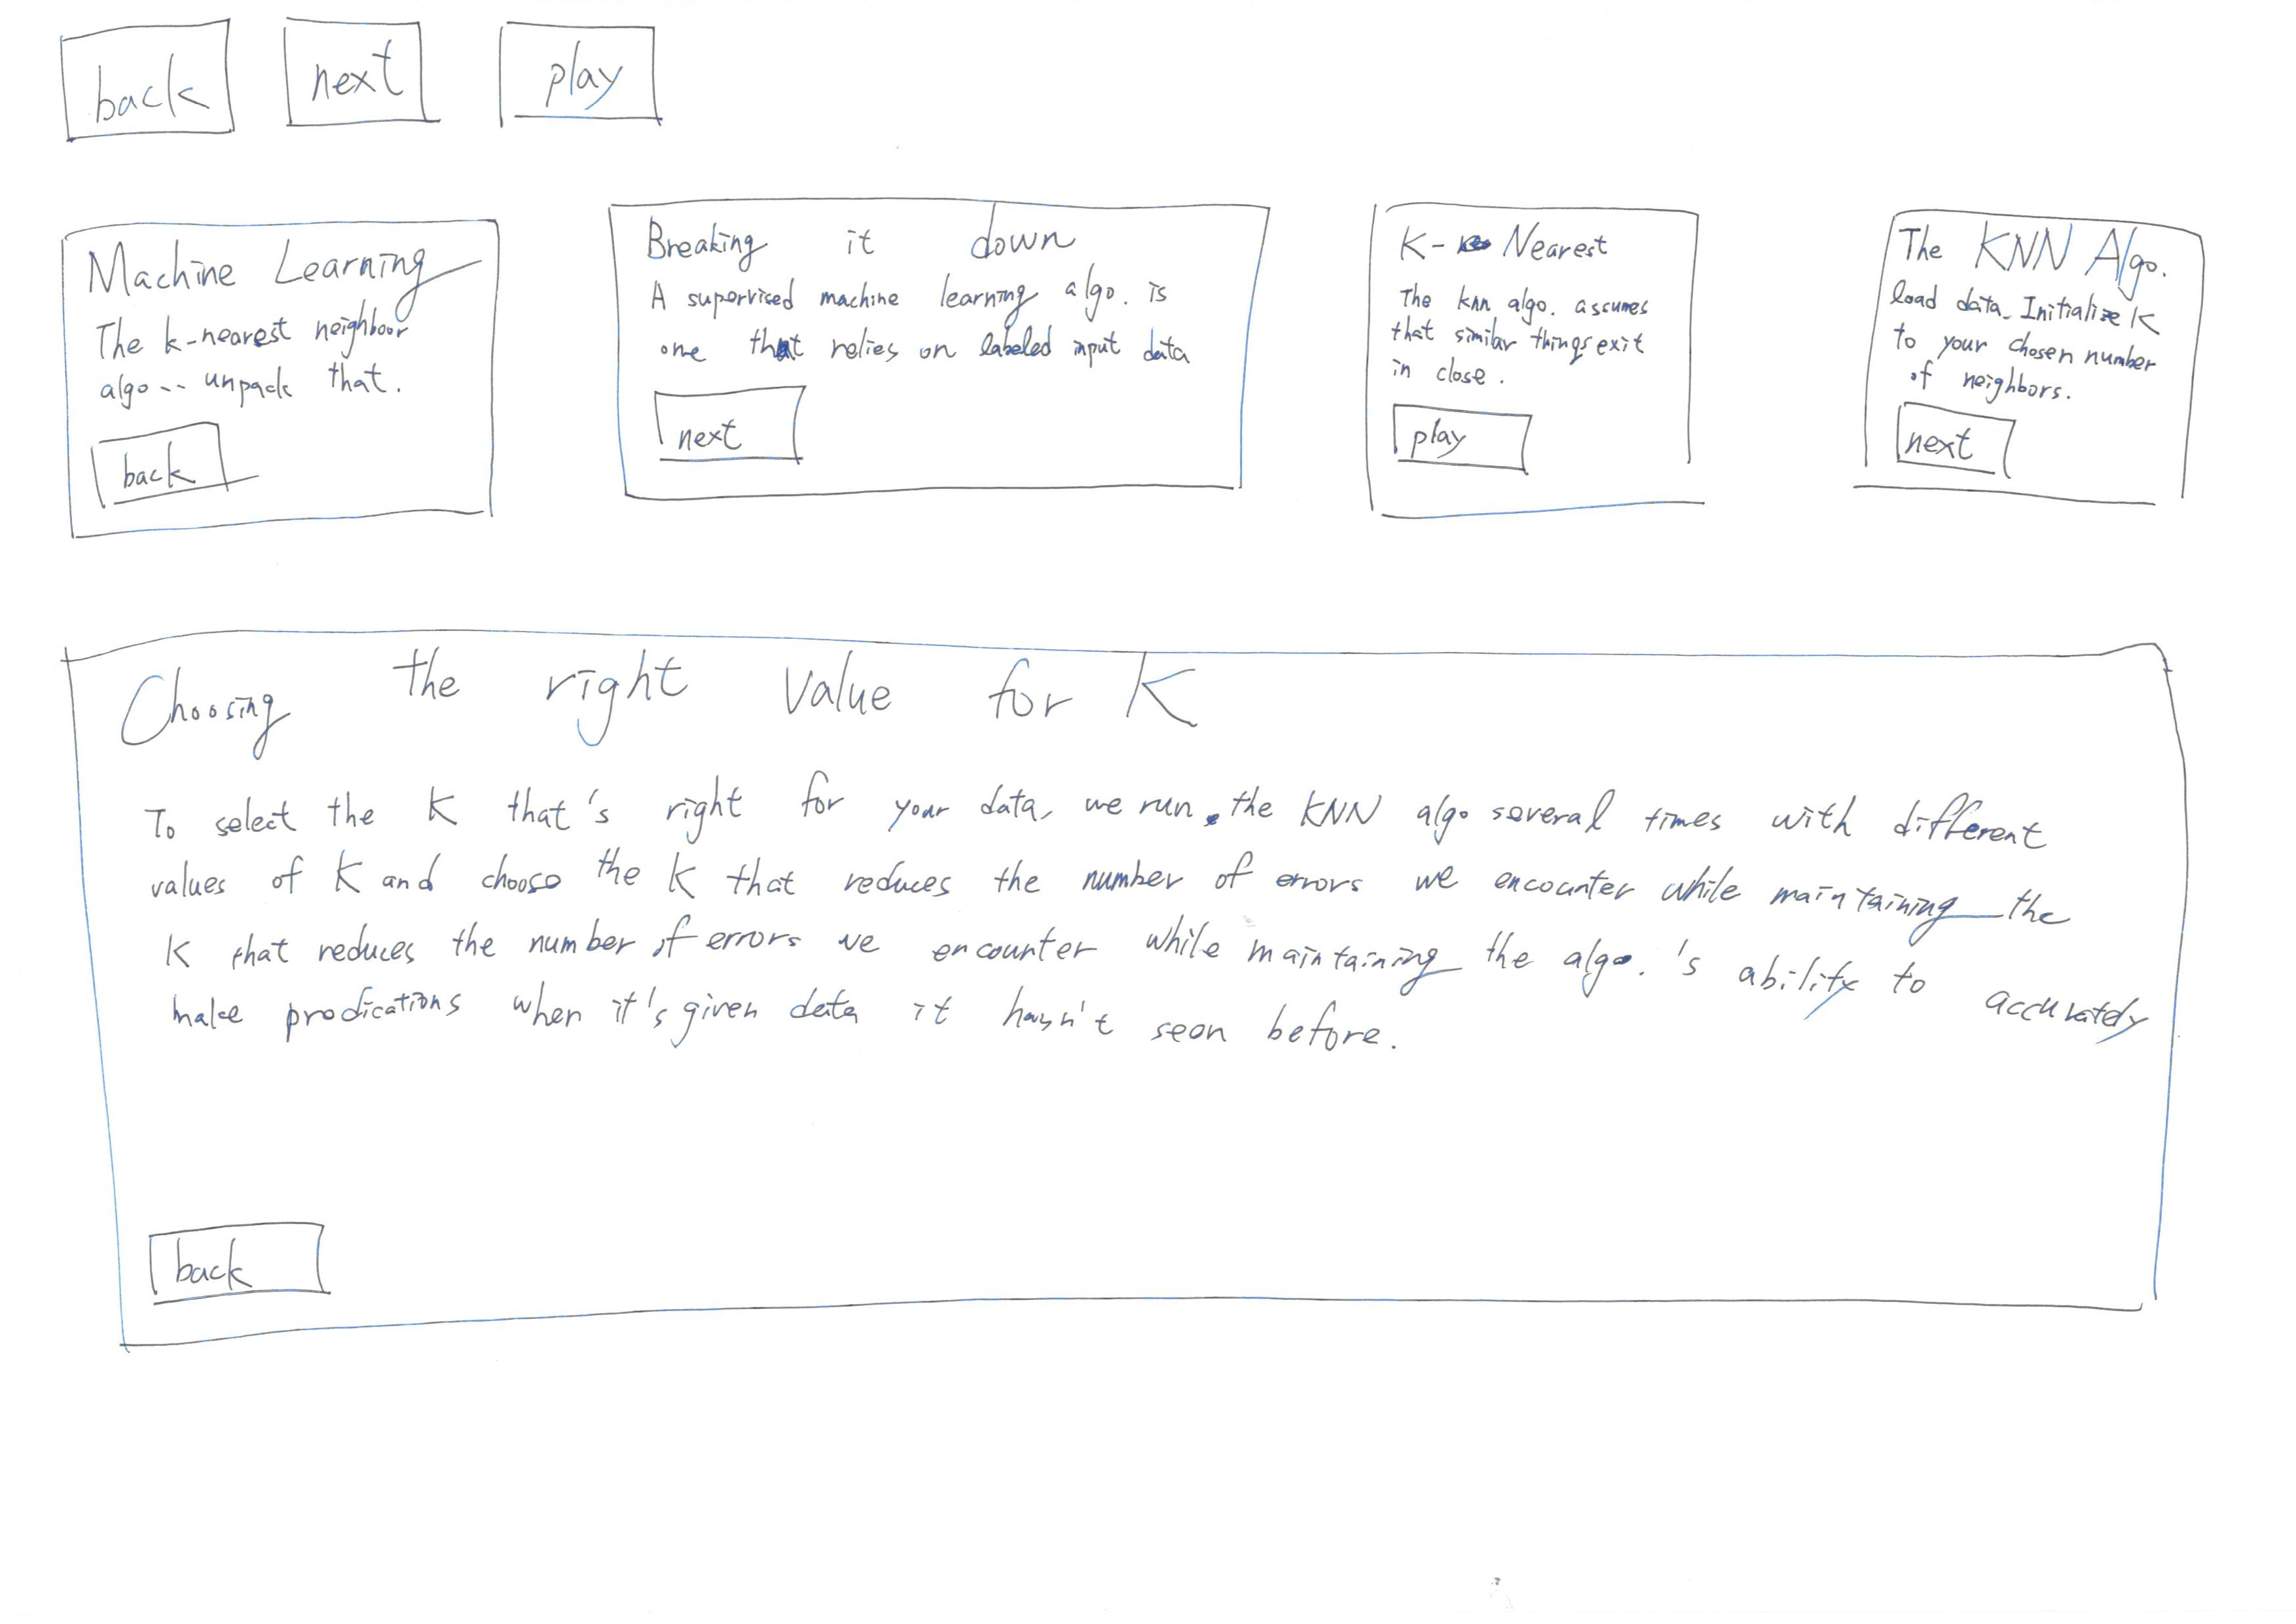back: (37, 4, 243, 153), (128, 1204, 369, 1316), (83, 408, 248, 515)
next: (258, 4, 457, 149), (1881, 394, 2066, 503), (635, 387, 840, 480)
play: (471, 2, 701, 155), (1380, 392, 1563, 501)
quadruple: (591, 169, 1308, 533), (35, 185, 552, 562), (1772, 174, 2231, 559), (1326, 176, 1723, 568)
row: (0, 591, 2296, 1378), (0, 151, 2296, 575), (12, 0, 2296, 172)
single: (39, 608, 2217, 1364)
small-title: (91, 638, 1234, 761), (642, 200, 1095, 274), (88, 230, 457, 316), (1909, 220, 2168, 281), (1392, 206, 1633, 269)
text: (135, 765, 2162, 1100), (645, 274, 1217, 376), (1893, 279, 2192, 401), (1375, 278, 1658, 397), (93, 316, 406, 411)
